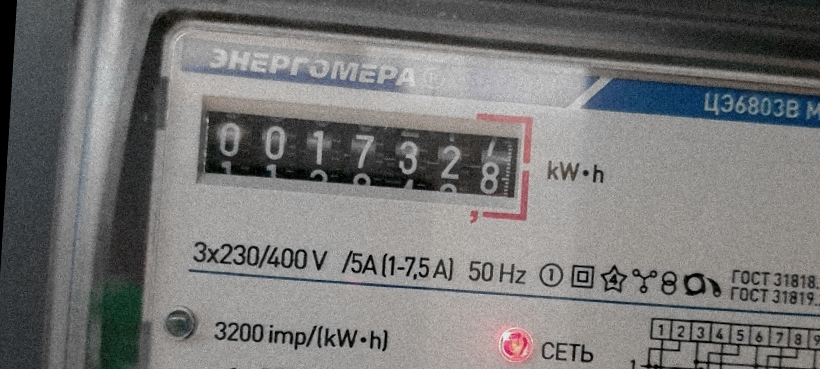0: (215, 118, 243, 159), (262, 122, 287, 162)
1: (307, 126, 327, 167)
2: (438, 143, 462, 181)
3: (396, 138, 420, 176)
7: (351, 131, 375, 171)
8: (478, 158, 499, 194)
screen: (183, 91, 543, 229)
